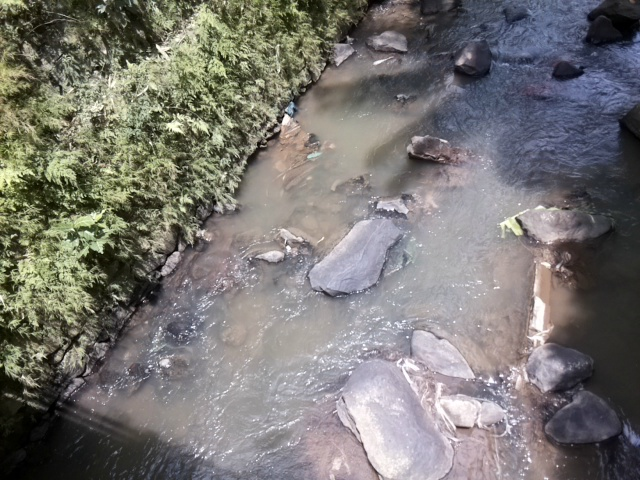Sampah_Plastik: (285, 101, 300, 116)
